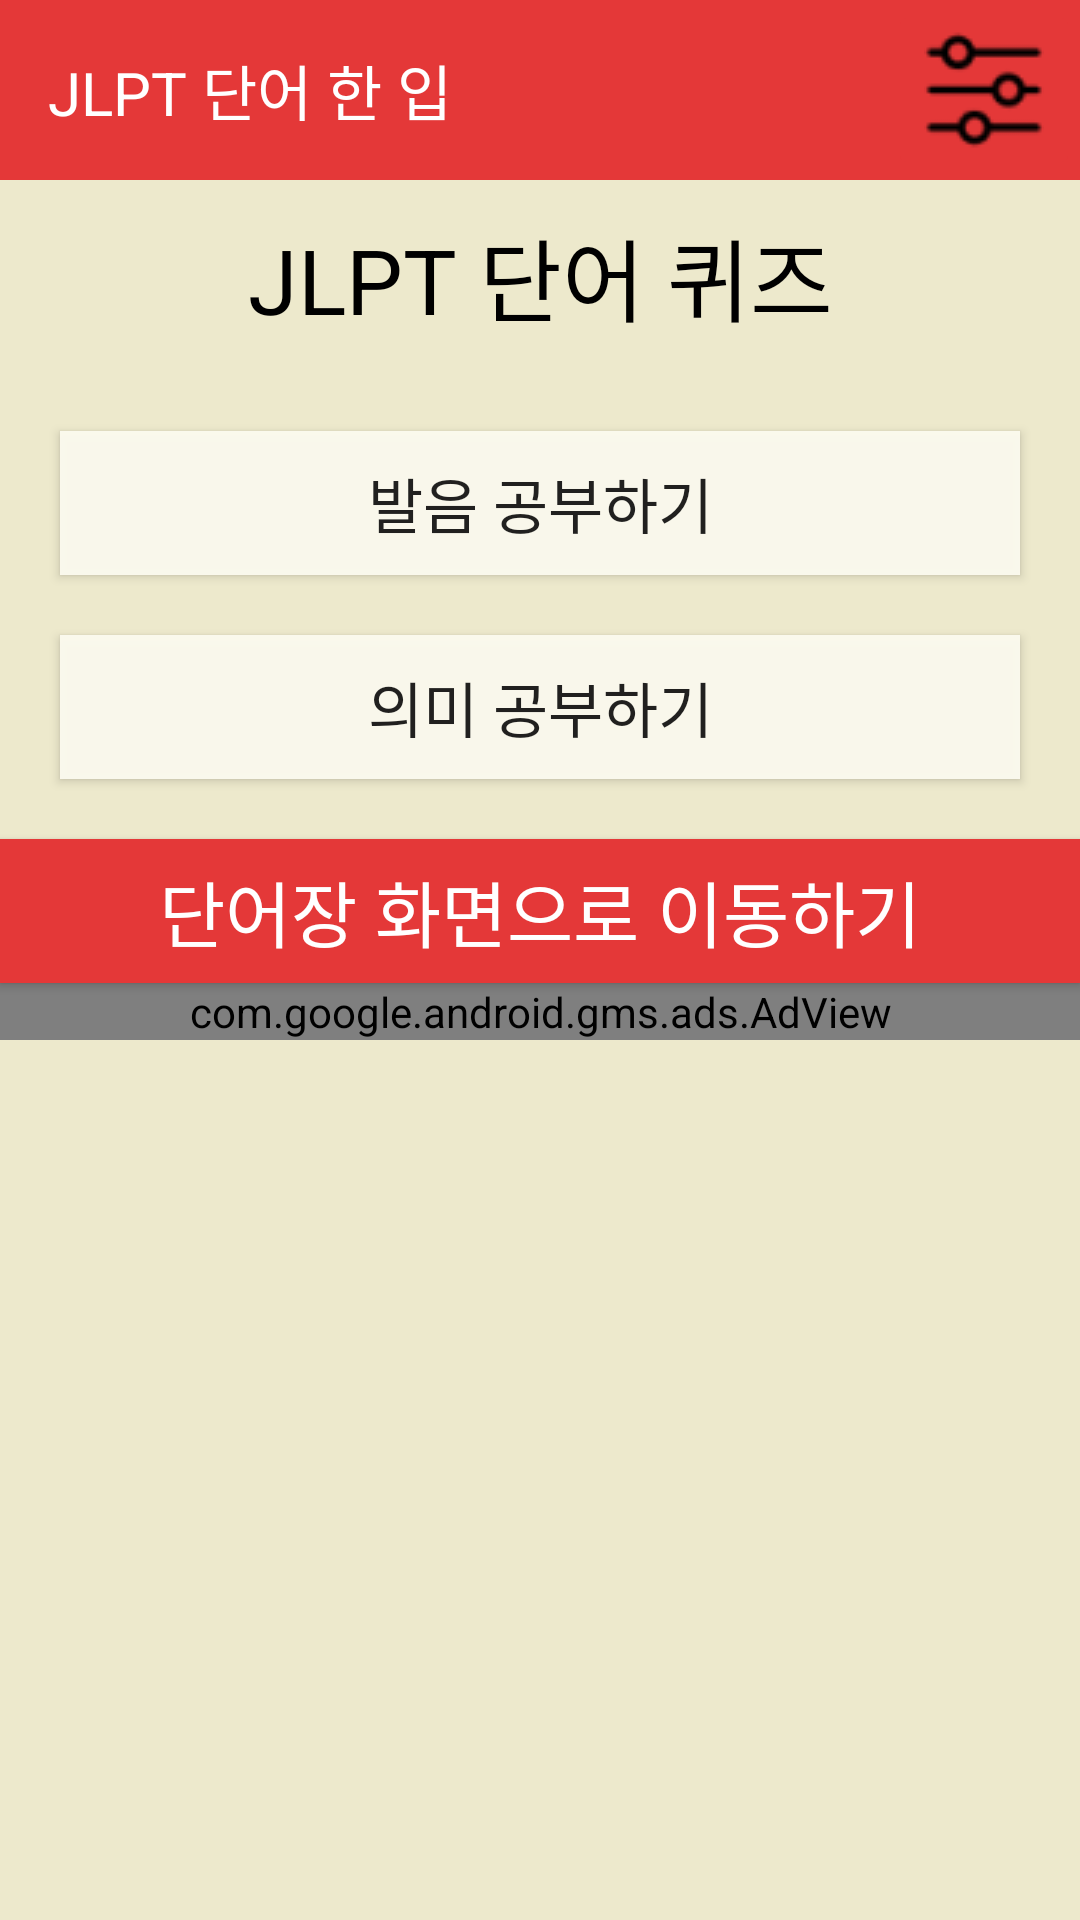

Point at icon controls on the screen. Image size 1080*1920, points as [x,y].
setting: [984,90]
